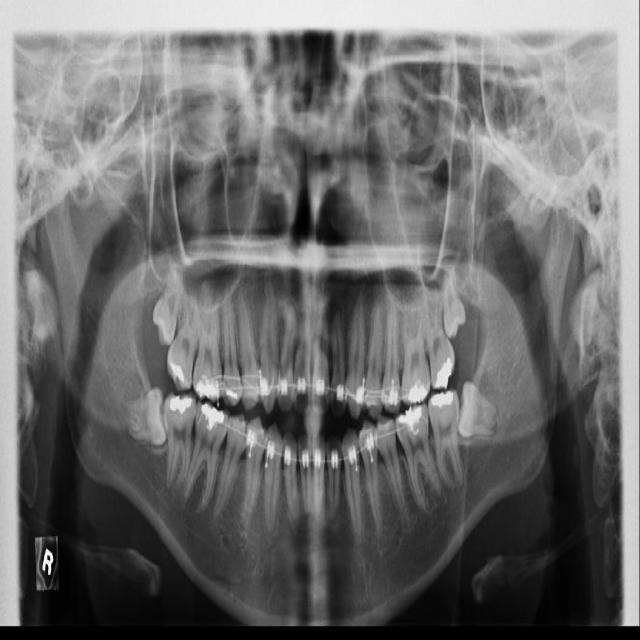3M ESPE Implant: (147, 254, 189, 346)
52: (386, 397, 441, 450), (185, 398, 235, 446), (162, 390, 198, 437), (165, 336, 195, 392), (425, 385, 462, 429), (191, 360, 226, 404), (400, 358, 431, 404), (430, 336, 455, 390), (220, 371, 244, 408)
73: (576, 517, 580, 538)
BioHorizons Implant: (420, 285, 459, 393)
BioLife Implant: (439, 263, 467, 340)
Biomet 3i Implant: (455, 380, 501, 443)
Blue Sky Bio Implant: (426, 386, 464, 491)
Caries: (162, 281, 208, 395)
Implant: (162, 391, 200, 489)
Keystone Dental Implant: (121, 386, 172, 450)
